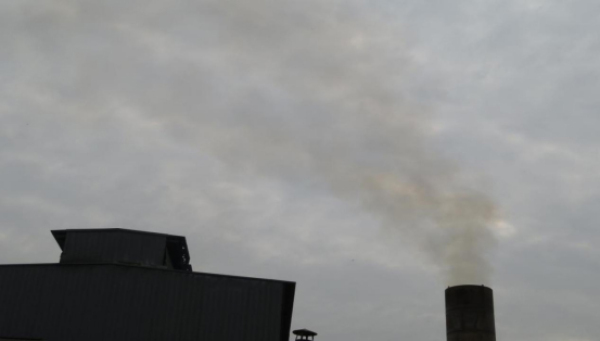dust: (392, 181, 514, 289)
